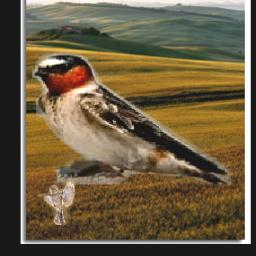Sparrow: (37, 182, 75, 226)
Swallow: (32, 51, 234, 185)
